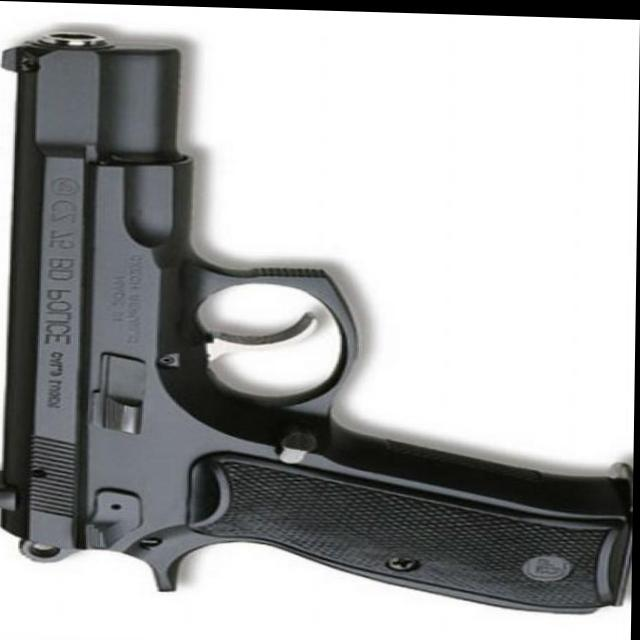handgun: (0, 27, 639, 610)
